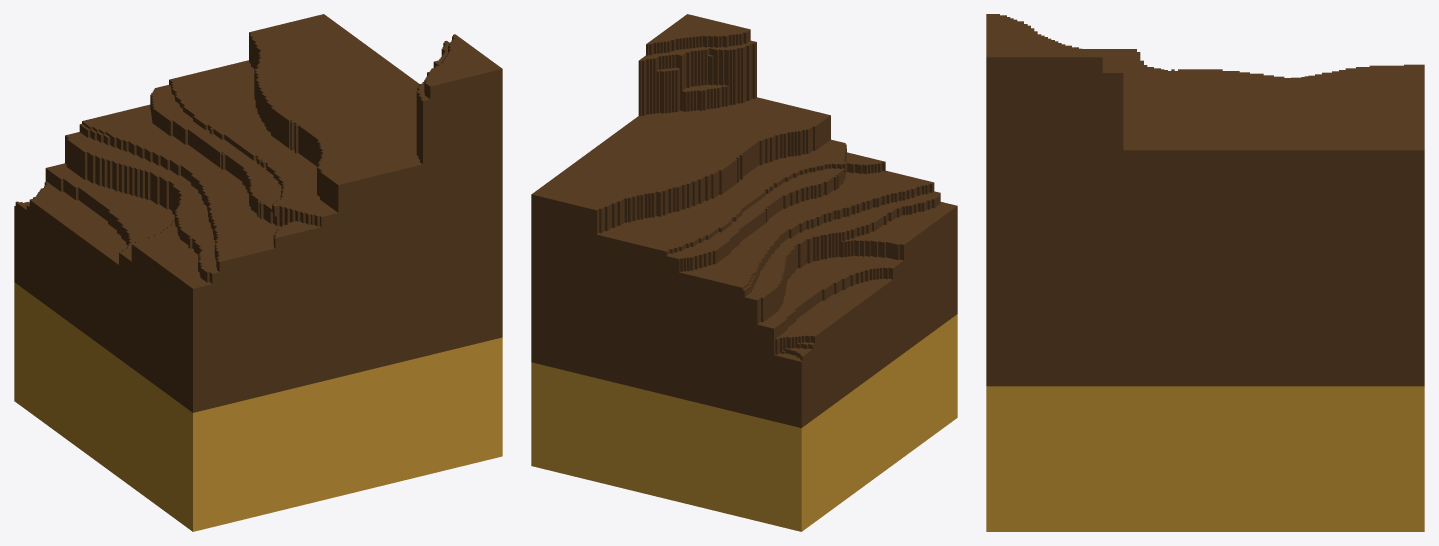
3 renders of one model, left to right at view 1: azimuth 30°, elevation 25°; view 2: azimuth 150°, elevation 25°; view 3: azimuth 270°, elevation 25°, orthographic. The views are drawn at different scales.
Visible parts, largest first — view 1: 3P; view 2: 3P; view 3: 3P.
Boxes of the visible parts, box(x1,y1,x2,y2) form: 3P: box(14, 14, 502, 531); 3P: box(531, 14, 957, 531); 3P: box(986, 14, 1424, 531).
Size of the model in its own units: 12.8 by 15.3 by 12.8.
Materials: 1 (1 with a texture image).
